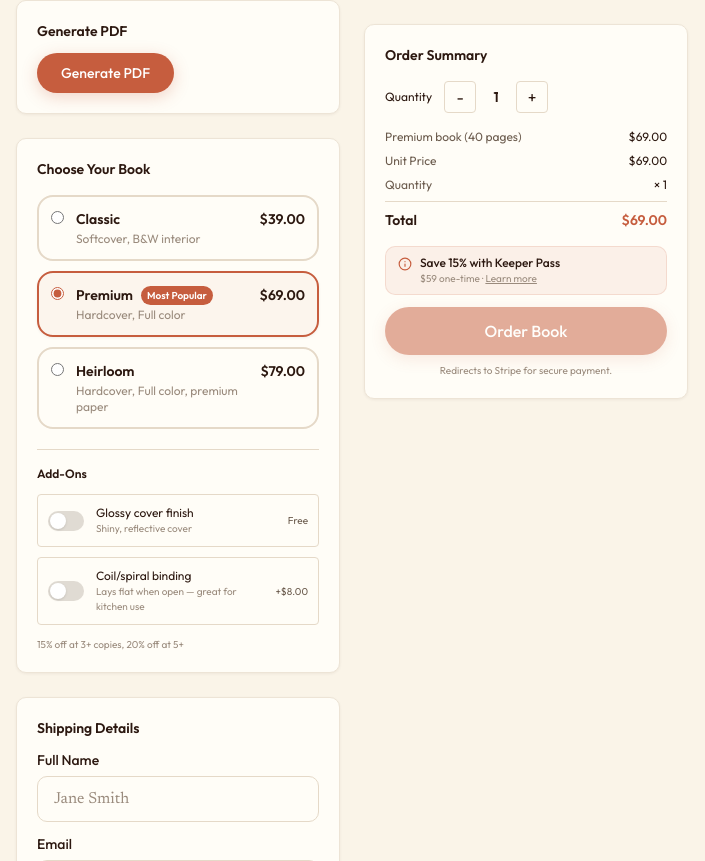
Scenario: OrderPanel › increments quantity when + is clicked
Click the button "+" at coordinates (532, 97), box [516,81,548,113]
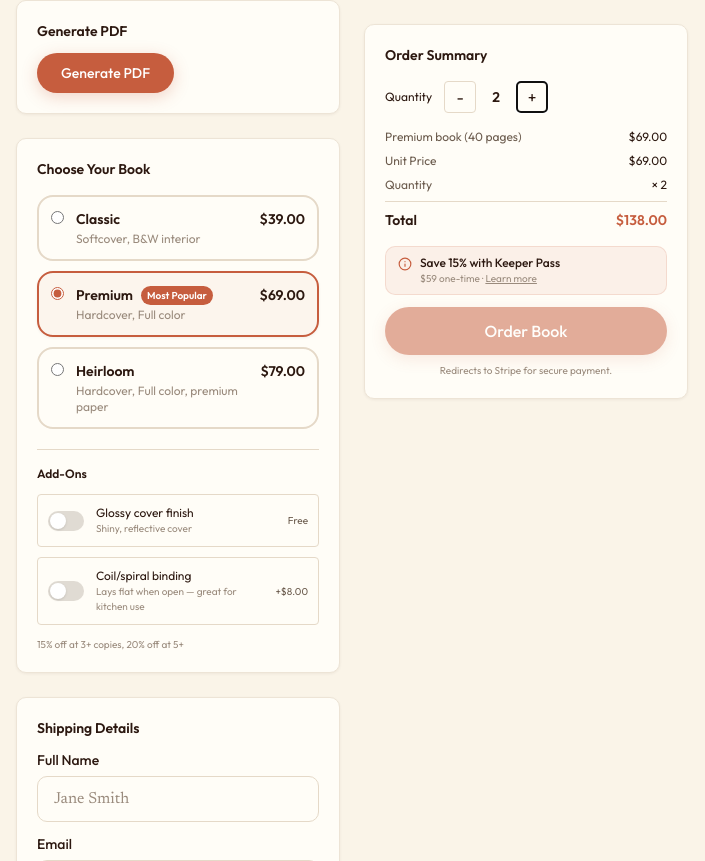
Check: the text "2" is shown, box [492,88,500,106]
